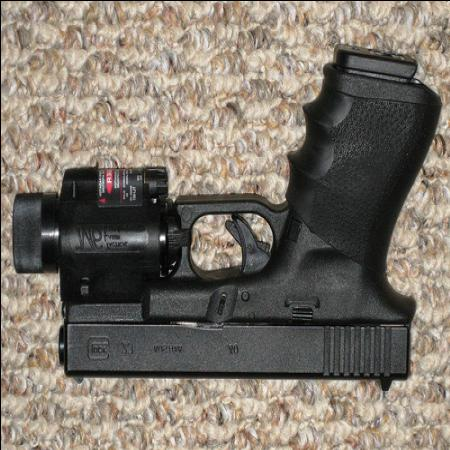Pistol: (10, 42, 436, 391)
